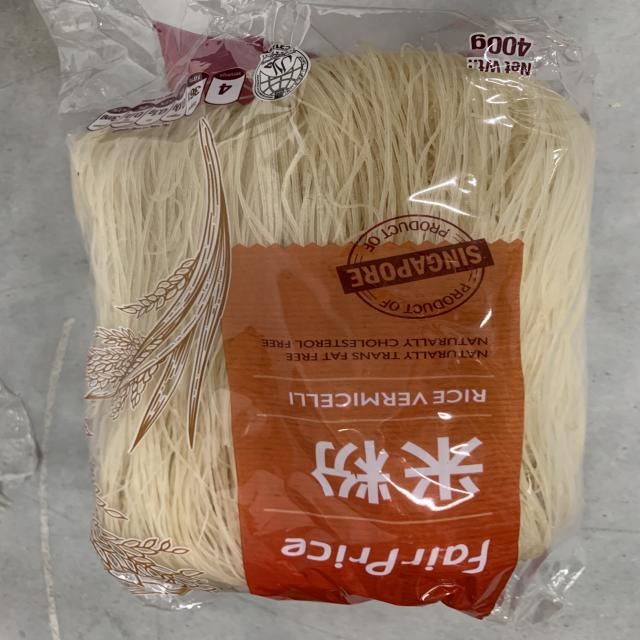object_name: (53, 15, 571, 618)
